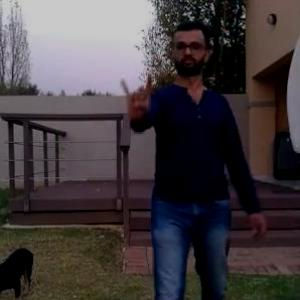takeoff-hand: (111, 64, 158, 132)
